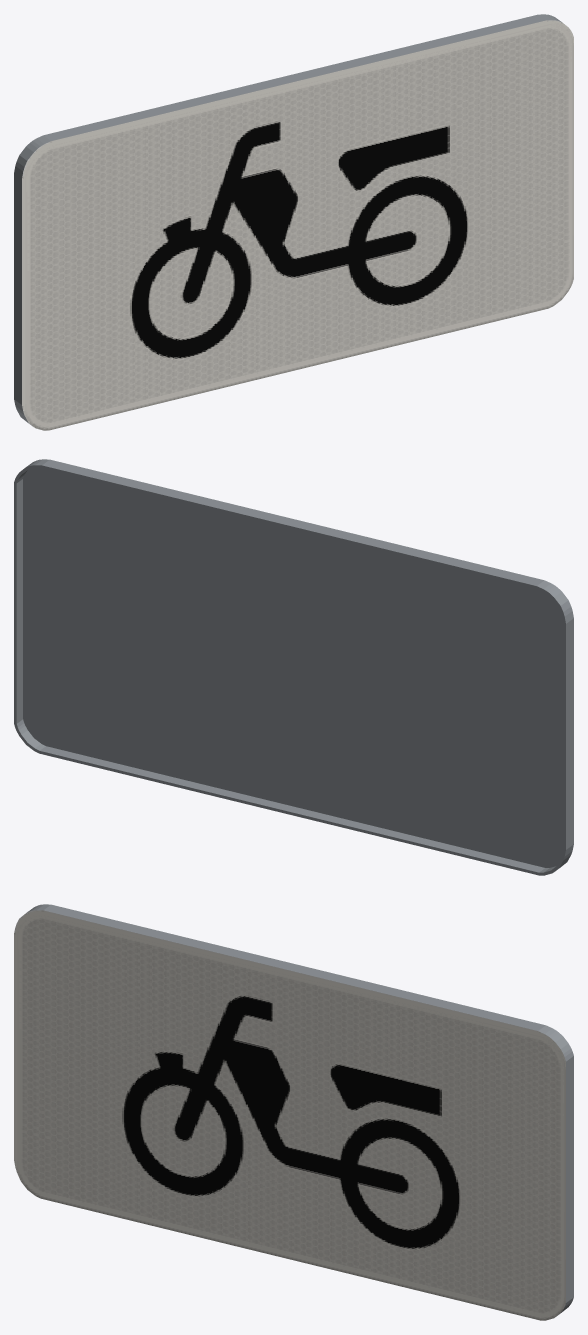
The picture shows the model from 3 angles, top to bottom: view 1: azimuth 30°, elevation 25°; view 2: azimuth 150°, elevation 25°; view 3: azimuth 330°, elevation 25°; orthographic projection.
Visible parts, largest first — view 1: cat_54686a4837cf8c5f; view 2: cat_54686a4837cf8c5f; view 3: cat_54686a4837cf8c5f.
Part boxes in pixels (left/top/right/bottom): cat_54686a4837cf8c5f: left=14, top=14, right=573, bottom=430; cat_54686a4837cf8c5f: left=14, top=459, right=573, bottom=875; cat_54686a4837cf8c5f: left=14, top=904, right=573, bottom=1320.
Bounding box in the file's own units: 0.6 × 0.015 × 0.3.
Materials: 2 (1 with a texture image).
